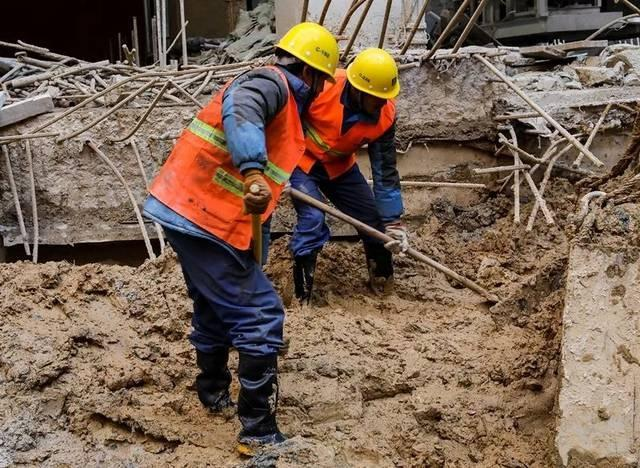helmet: (269, 20, 347, 81), (342, 46, 404, 100)
wear: (177, 81, 293, 256), (305, 95, 375, 181)
